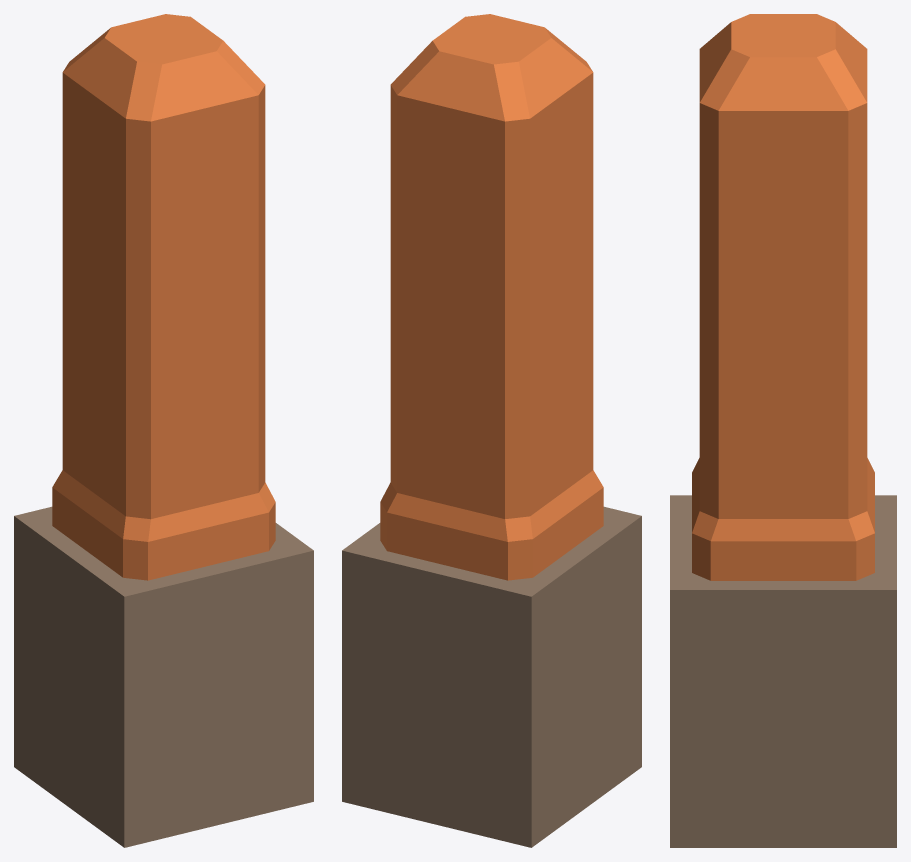
File: Wall_CornerPiece.FBX
The picture shows the model from 3 angles, left to right: view 1: azimuth 30°, elevation 25°; view 2: azimuth 150°, elevation 25°; view 3: azimuth 270°, elevation 25°; orthographic projection. The views are drawn at different scales.
Visible parts, largest first — view 1: wall_CornerPiece; view 2: wall_CornerPiece; view 3: wall_CornerPiece.
Part boxes in pixels (x1,y1,x2,y2): wall_CornerPiece: (14, 14, 313, 847); wall_CornerPiece: (342, 14, 641, 847); wall_CornerPiece: (670, 14, 896, 847).
Bounding box in the file's own units: 0.2821 × 0.2848 × 1.06.
